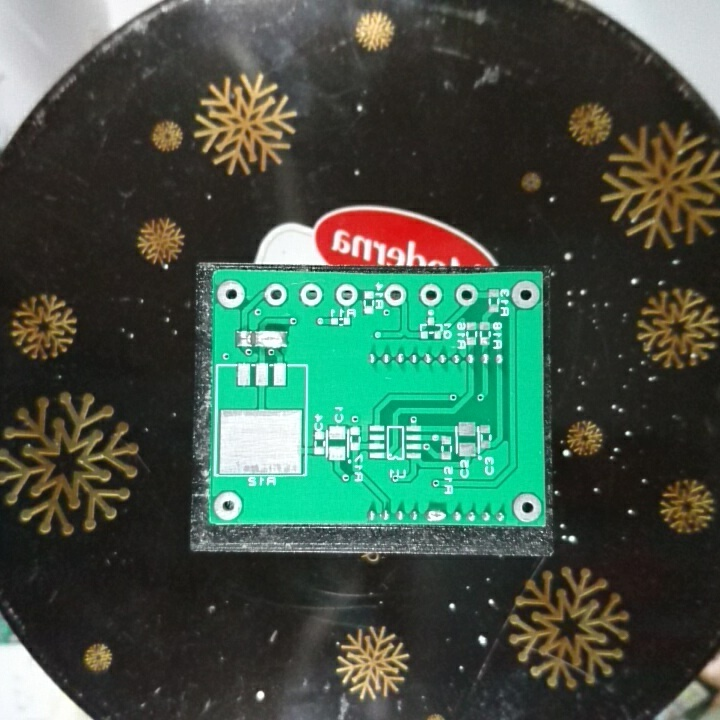F: (214, 277, 248, 311), (211, 489, 245, 523), (510, 279, 541, 313), (511, 491, 543, 522), (260, 280, 291, 310), (415, 282, 445, 309), (454, 279, 479, 309), (297, 282, 323, 309), (332, 281, 359, 307), (382, 282, 408, 309)
P: (252, 328, 289, 349), (425, 506, 446, 526)
